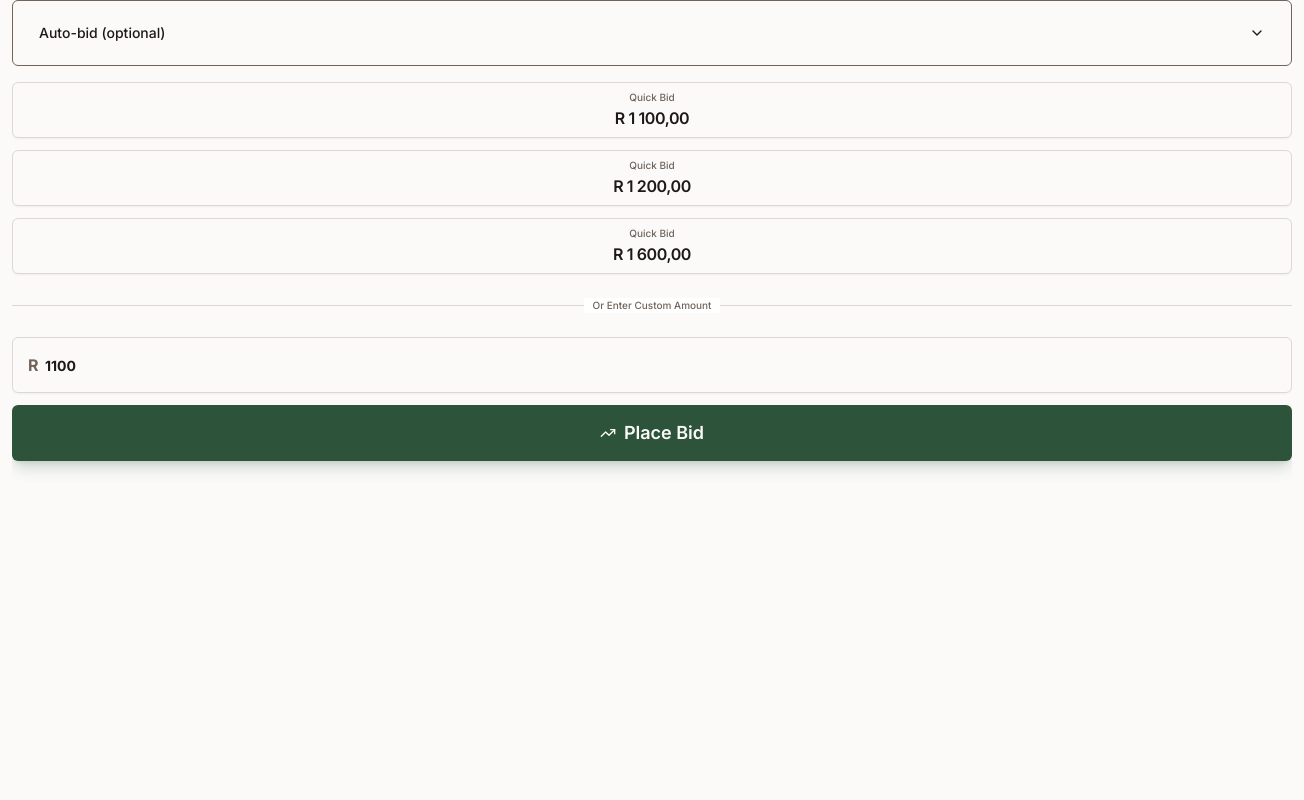
Test case: BidForm › filters quick bids when proxy max bid is set
The width and height of the screenshot is (1304, 800).
Click the button with test id "auto-bid-toggle" at (102, 32), box [29,17,1275,49]
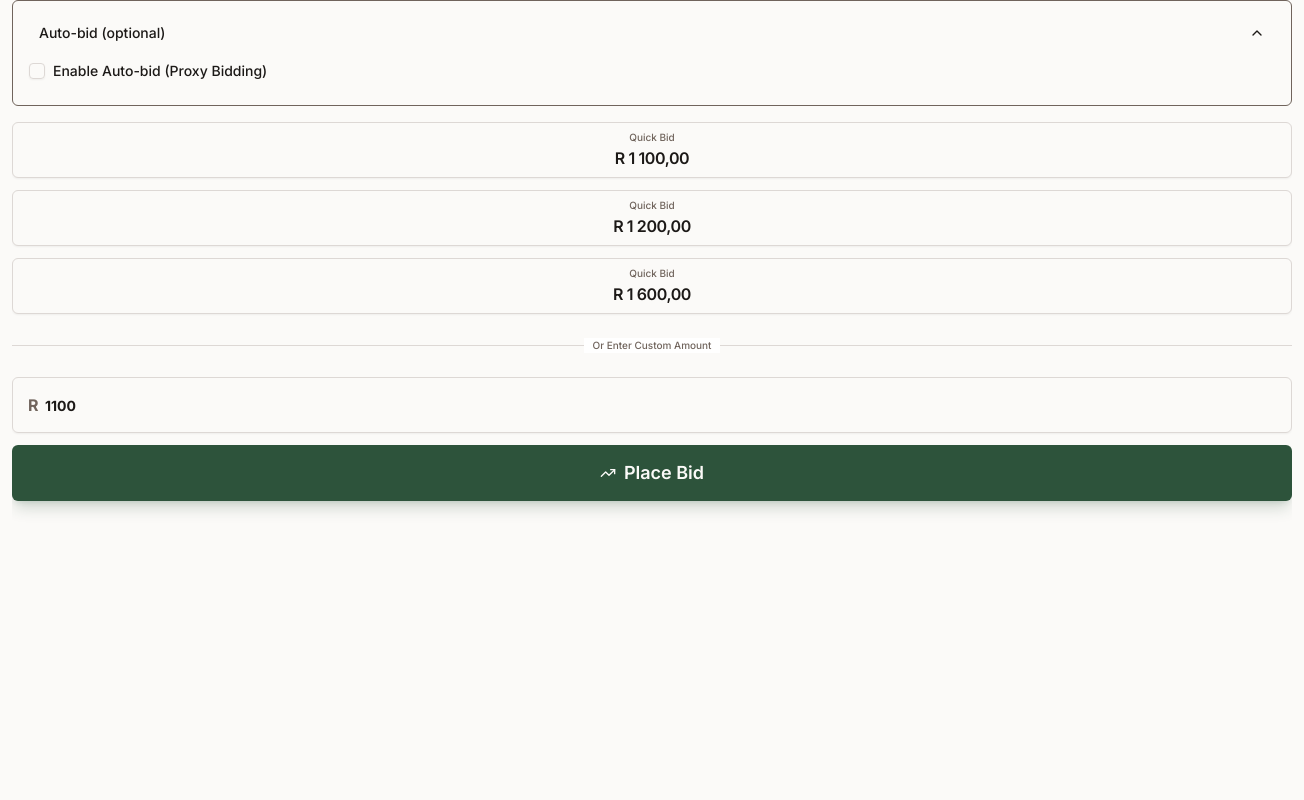
Click the checkbox named "enable auto-bid" at (37, 71), box [29,63,45,79]
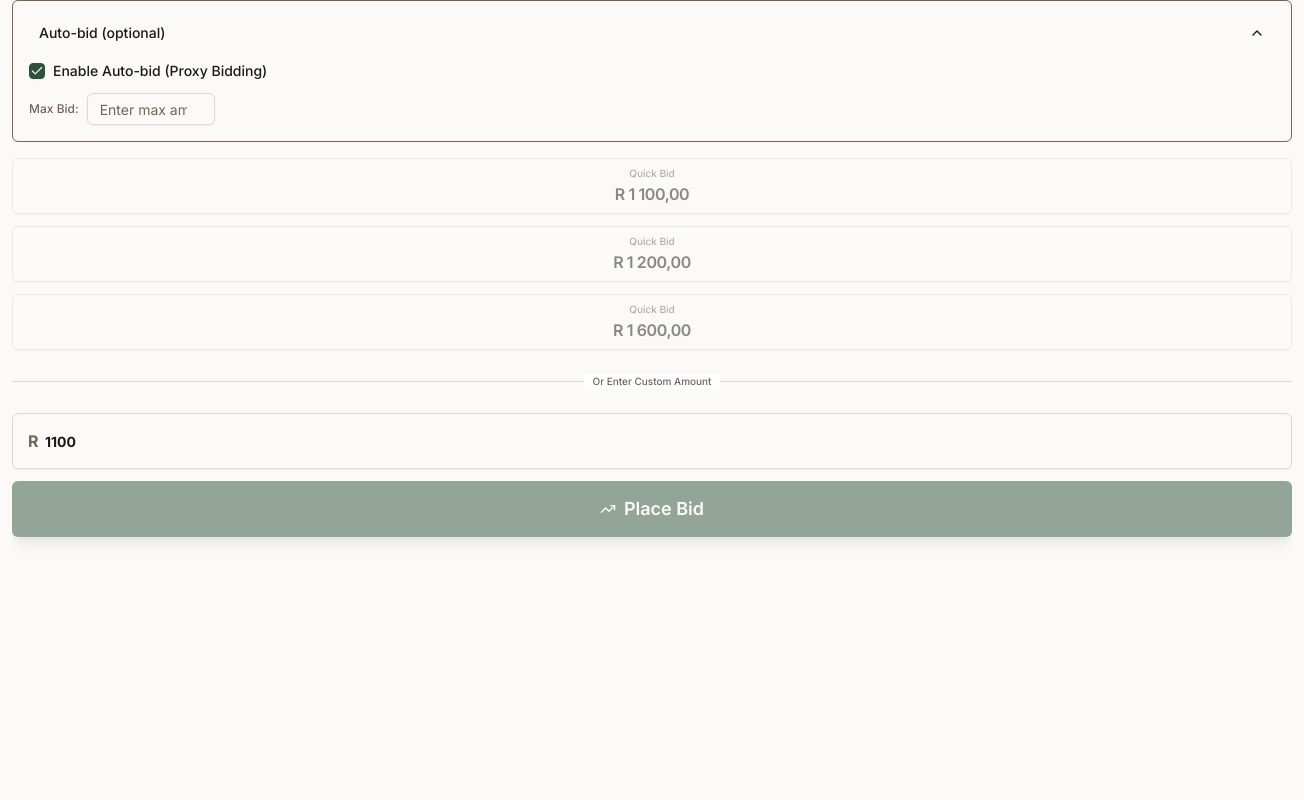
Type "1150" into the number field with placeholder "Enter max amount" at (151, 109), box [87,93,215,125]
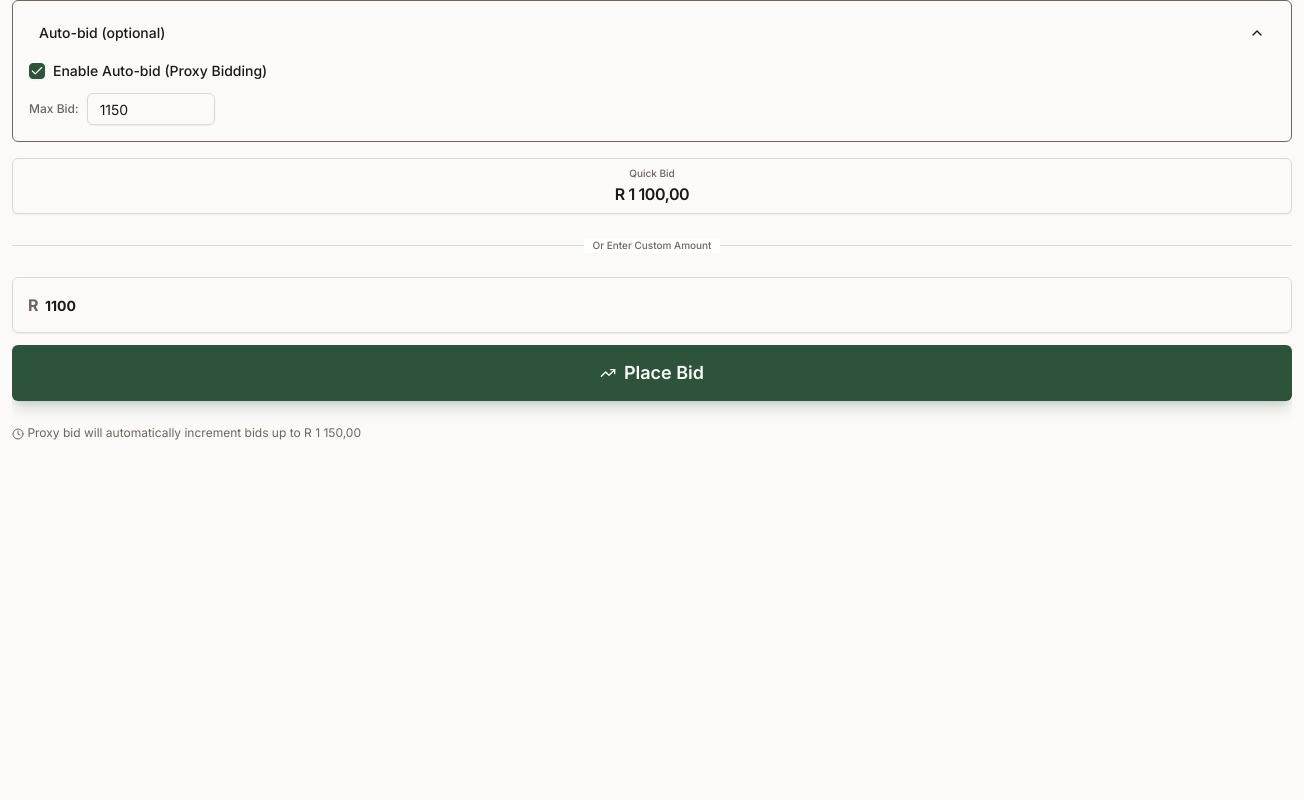
Expected: the button "Quick Bid R 1 100,00" is shown, [12,158,1292,214]
Expected: the button "Quick Bid R 1 200,00" is gone
